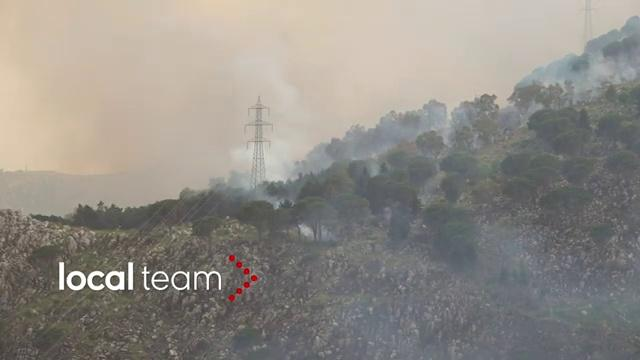smoke: (263, 149, 290, 180)
